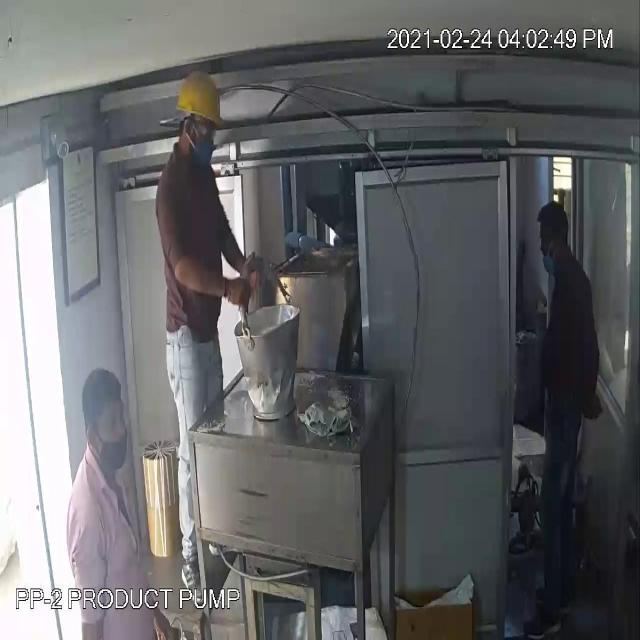helmet: (172, 66, 232, 127)
no-helmet: (77, 354, 133, 442)
